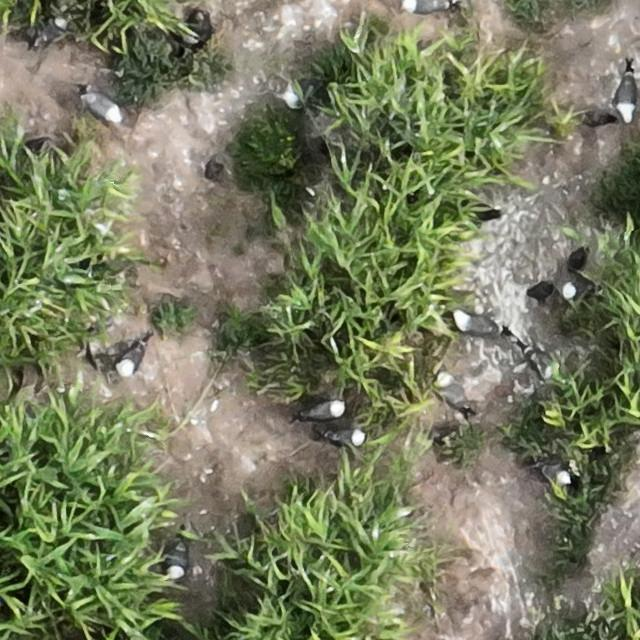umineko: (436, 372, 469, 412), (166, 541, 190, 581), (86, 92, 119, 121), (454, 312, 498, 332), (616, 78, 636, 120), (118, 346, 142, 376), (562, 282, 602, 300), (39, 17, 66, 43), (304, 400, 341, 418), (537, 465, 571, 484), (328, 429, 364, 446), (404, 0, 446, 13)
